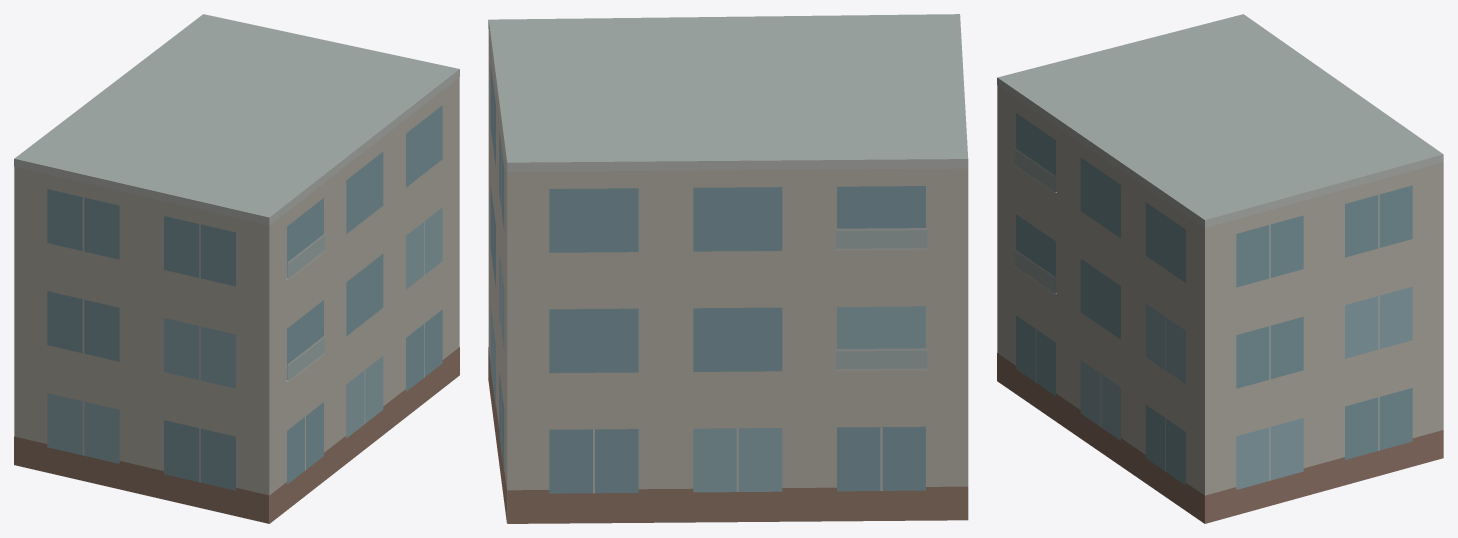
Rendered from survey-upis-32930590.glb.
3 renders of one model, left to right at view 1: azimuth 30°, elevation 25°; view 2: azimuth 150°, elevation 25°; view 3: azimuth 270°, elevation 25°, orthographic. The views are drawn at different scales.
Parts seen in each view (by area): view 1: survey-upis-32930590.tmp; view 2: survey-upis-32930590.tmp; view 3: survey-upis-32930590.tmp.
Part boxes in pixels (x1=…): survey-upis-32930590.tmp: x1=14, y1=14, x2=459, y2=523; survey-upis-32930590.tmp: x1=488, y1=14, x2=968, y2=523; survey-upis-32930590.tmp: x1=997, y1=14, x2=1443, y2=523.
Bounding box in the file's own units: 13.69 × 9.4 × 12.53.
